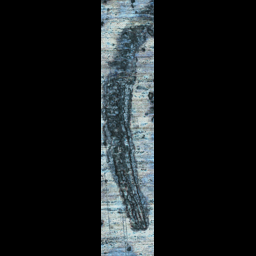d: (101, 4, 152, 234)
